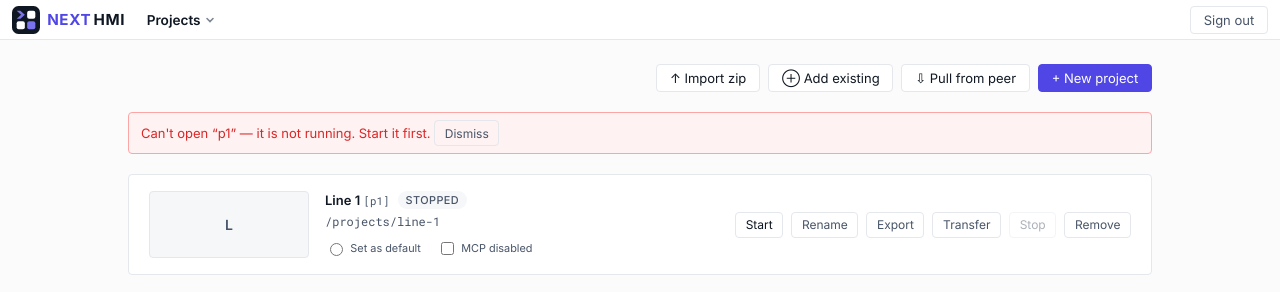
Test: unavailable bounce › dismisses the message
Check: the text "Can't open “p1” — it is not running. Start it first." is shown, box [141, 125, 430, 141]
What coordinates should you click on to do the following:
click the button "Dismiss"
I would click on:
 (467, 133)
Its box is [434, 120, 499, 146].
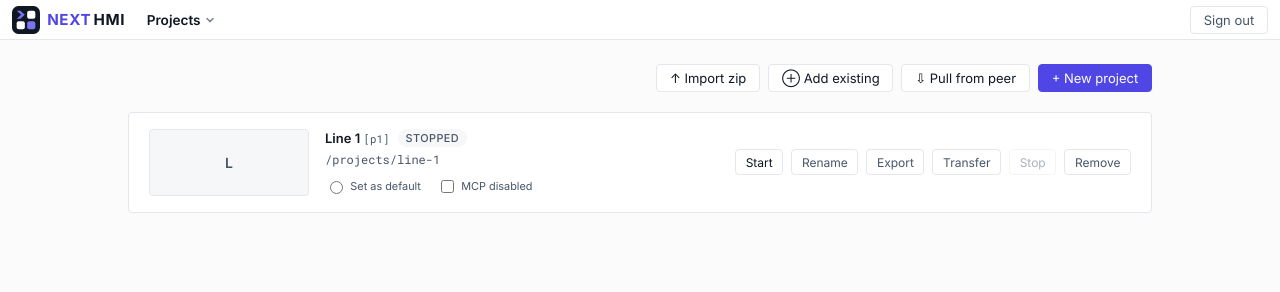
Check: the text "Can't open" is gone
